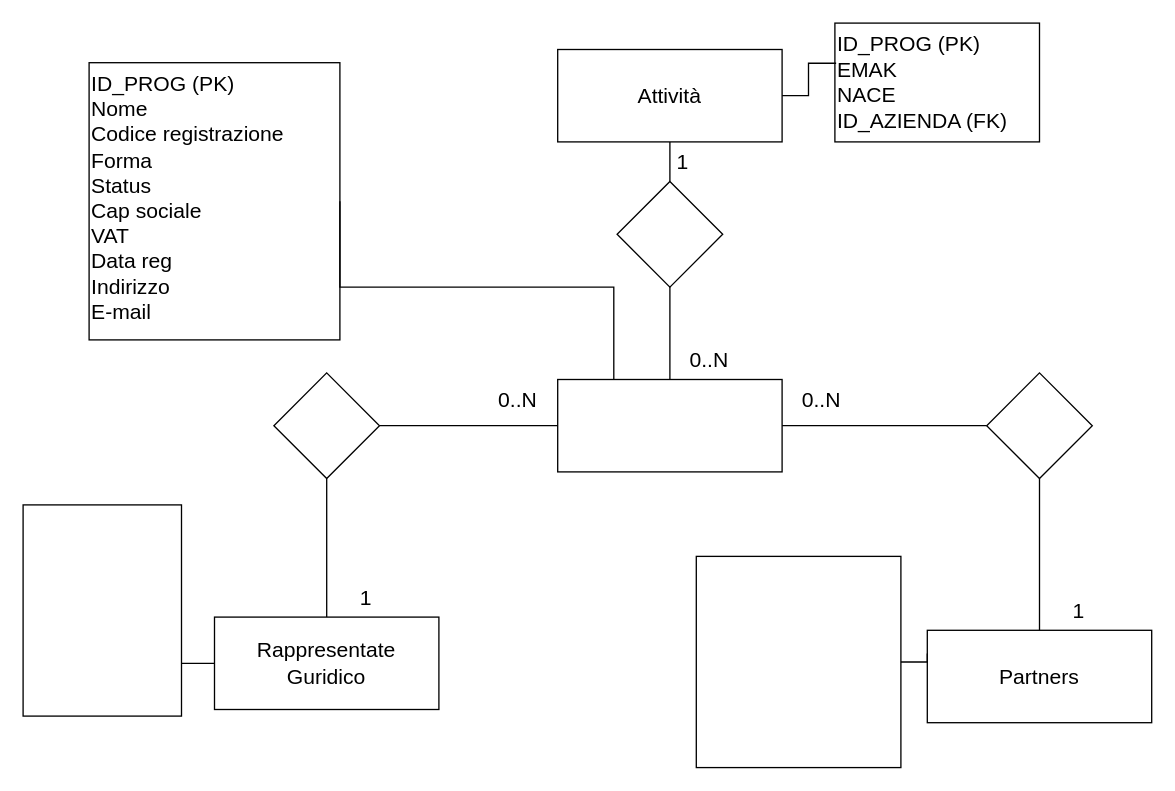
Some shapes in this 1175 by 791 pixel diagram are drawn without their labels. The centre of each missing label's shape, as x and y in pixels:
"Azienda" belongs at [669,425].
"Nome Cognome ID Partner %contributo Quota ID_PROG (PK) ID_AZIENDA(FK)" belongs at [798,661].
"Nome Cognome ID Partner Ruolo Data inizio ID_PROG (PK) ID_Azienda(FK)" belongs at [102,610].
